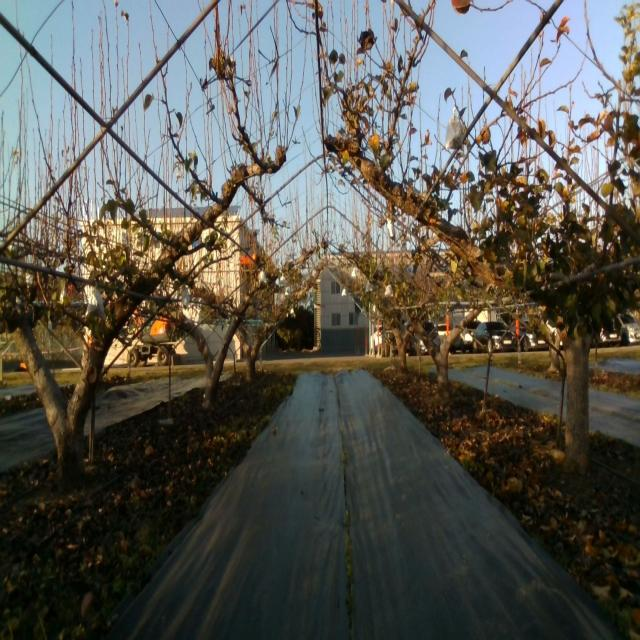pearbags: (444, 107, 465, 154), (85, 289, 105, 323), (181, 290, 191, 310)
